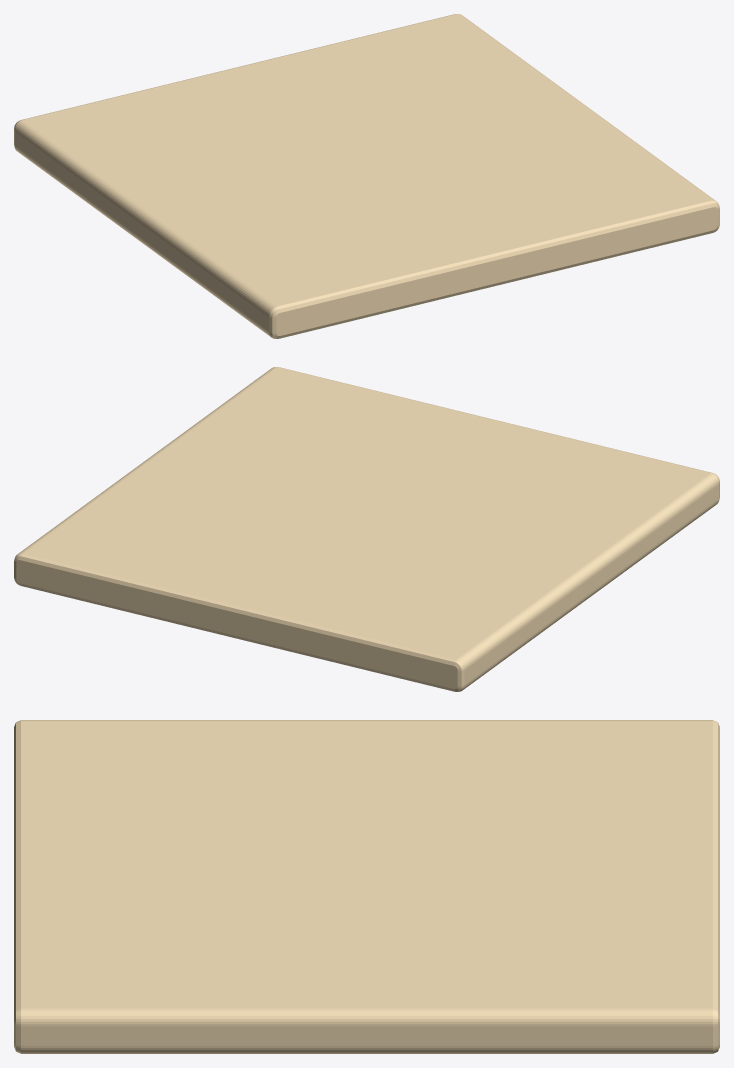
Rendered from path_tile.glb.
The picture shows the model from 3 angles, top to bottom: view 1: azimuth 30°, elevation 25°; view 2: azimuth 150°, elevation 25°; view 3: azimuth 270°, elevation 25°; orthographic projection. The views are drawn at different scales.
Parts seen in each view (by area): view 1: PathTile; view 2: PathTile; view 3: PathTile.
Boxes of the visible parts, <box> form: PathTile: <box>14,14,719,338</box>; PathTile: <box>14,367,719,691</box>; PathTile: <box>14,720,719,1053</box>.
Size of the model in its own units: 0.816 by 0.056 by 0.816.
